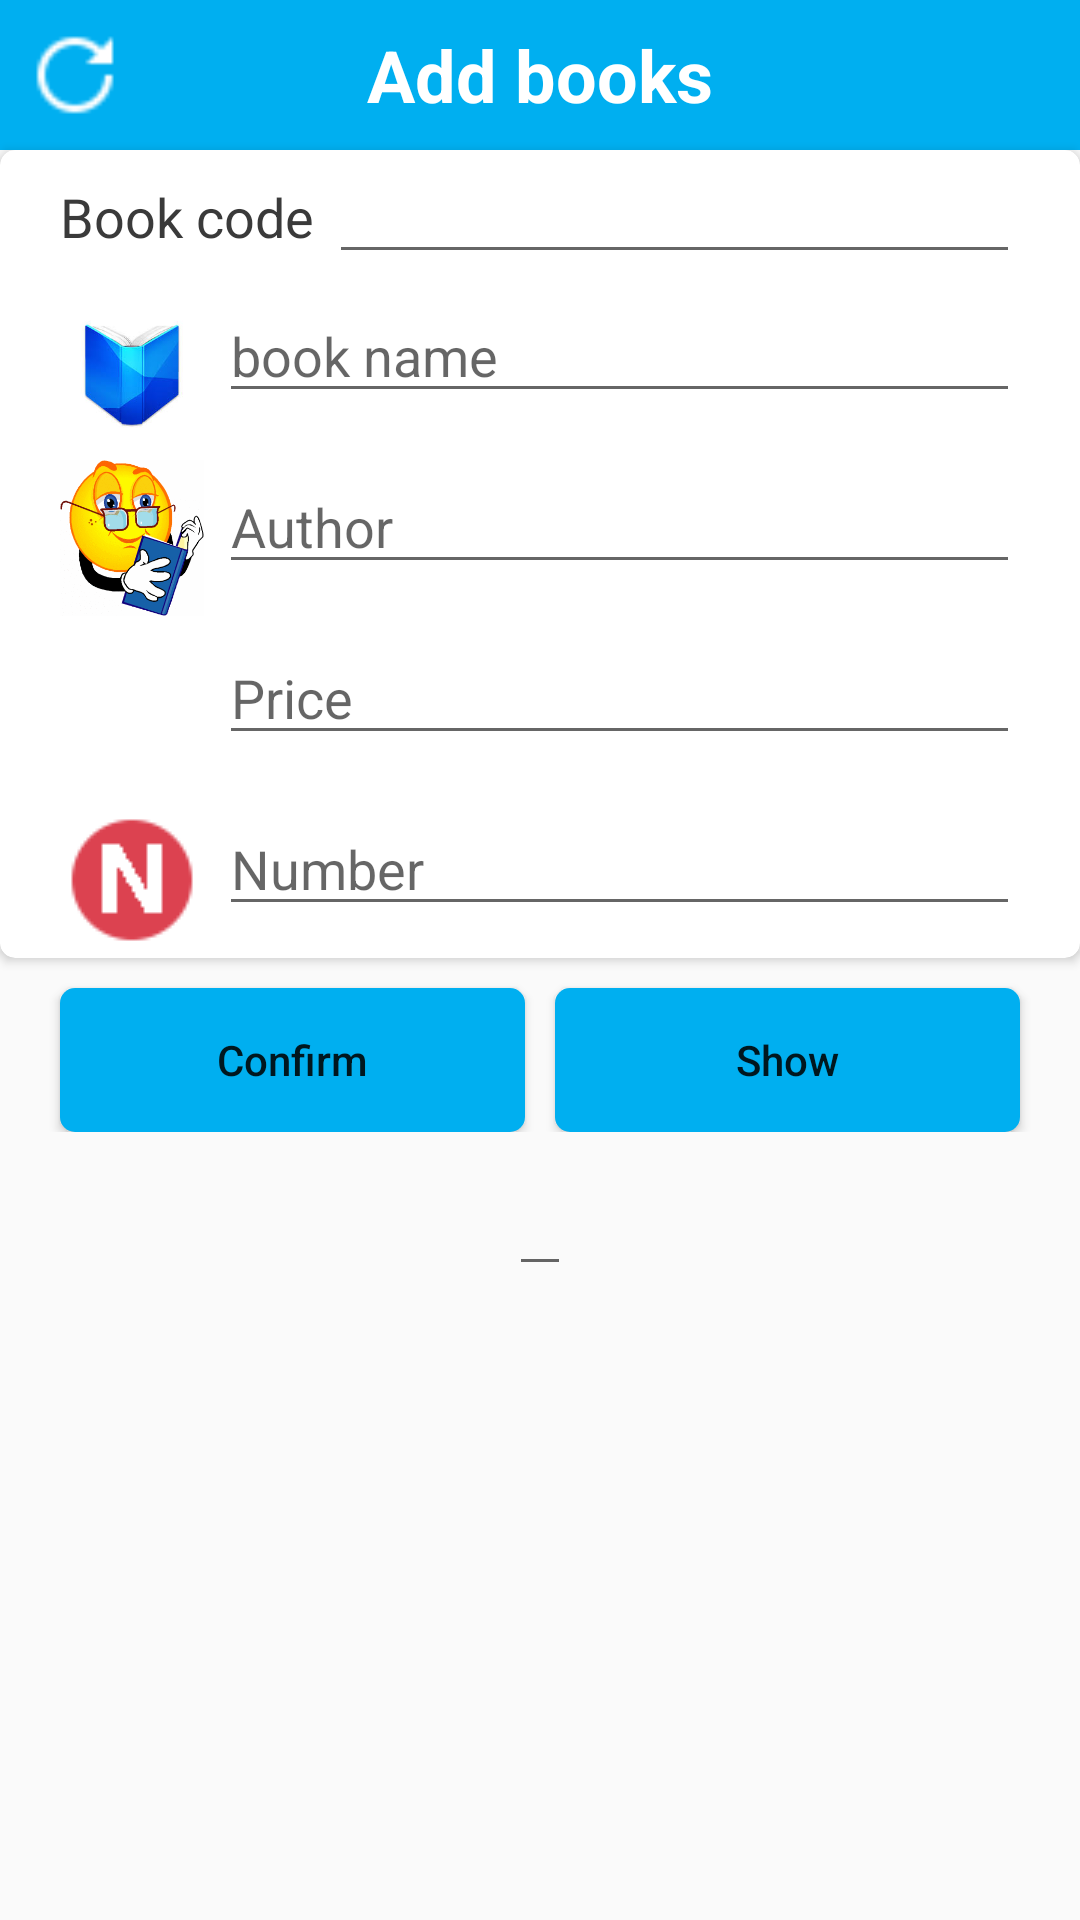

Icons on this 1080x1920 Android screen, each with its box as (x1, y1, x2, y2):
lai: (36, 36, 114, 114)
tacgia: (60, 460, 204, 616)
